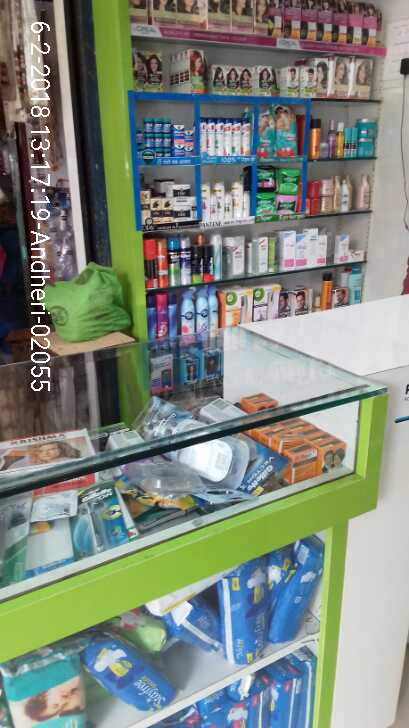vicks: (136, 117, 194, 156)
